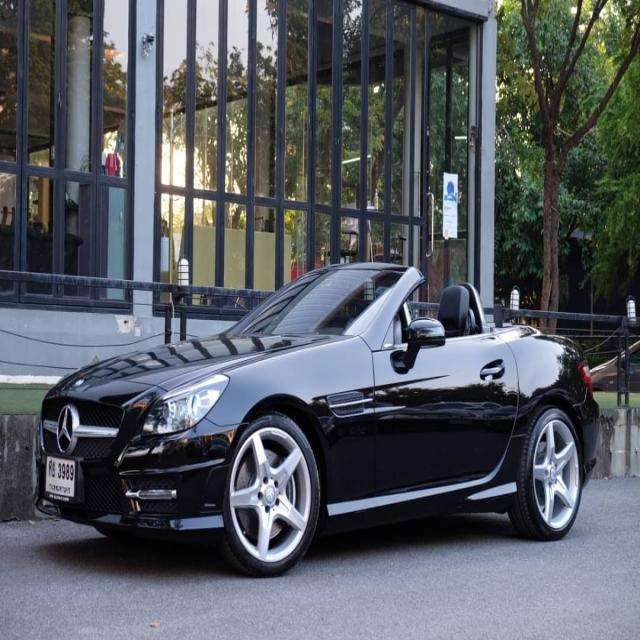license_plate: (38, 449, 80, 507)
